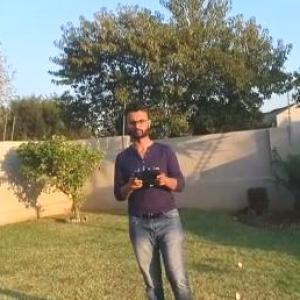follow: (108, 95, 199, 299)
